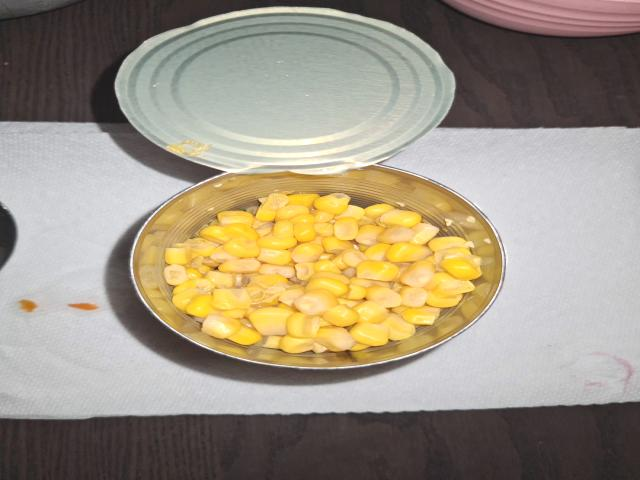kichen waste: (163, 194, 481, 352)
